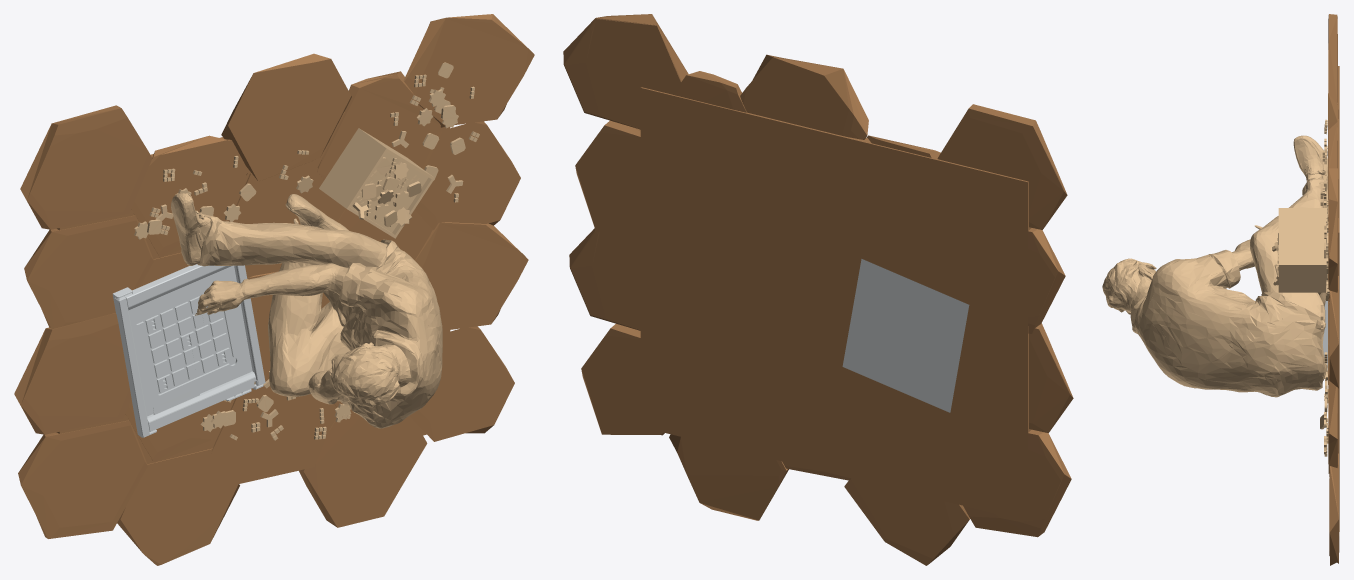
Rendered from thinker.obj.
3 renders of one model, left to right at view 1: azimuth 30°, elevation 25°; view 2: azimuth 150°, elevation 25°; view 3: azimuth 270°, elevation 25°, orthographic. The views are drawn at different scales.
Visible parts, largest first — view 1: group_0_-5670064, group_0_-1916779, group_0_-2235676; view 2: group_0_-5670064, group_0_-2235676; view 3: group_0_-1916779, group_0_-5670064.
Boxes of the visible parts, x1=… form: group_0_-5670064: x1=14, y1=14, x2=534, y2=565; group_0_-1916779: x1=134, y1=62, x2=479, y2=440; group_0_-2235676: x1=112, y1=264, x2=265, y2=437; group_0_-5670064: x1=563, y1=14, x2=1073, y2=565; group_0_-2235676: x1=842, y1=259, x2=969, y2=412; group_0_-1916779: x1=1102, y1=119, x2=1329, y2=456; group_0_-5670064: x1=1328, y1=14, x2=1339, y2=565.
Size of the model in its own units: 114 by 102 by 51.73.
